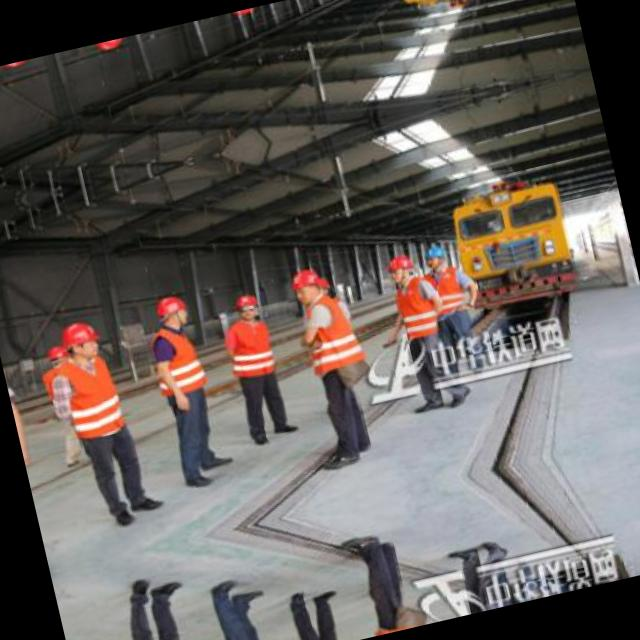helmet: (55, 316, 106, 368), (286, 266, 330, 307), (150, 291, 193, 332), (379, 244, 416, 287), (225, 288, 260, 324), (418, 238, 448, 271), (44, 338, 70, 370), (90, 36, 130, 55)
